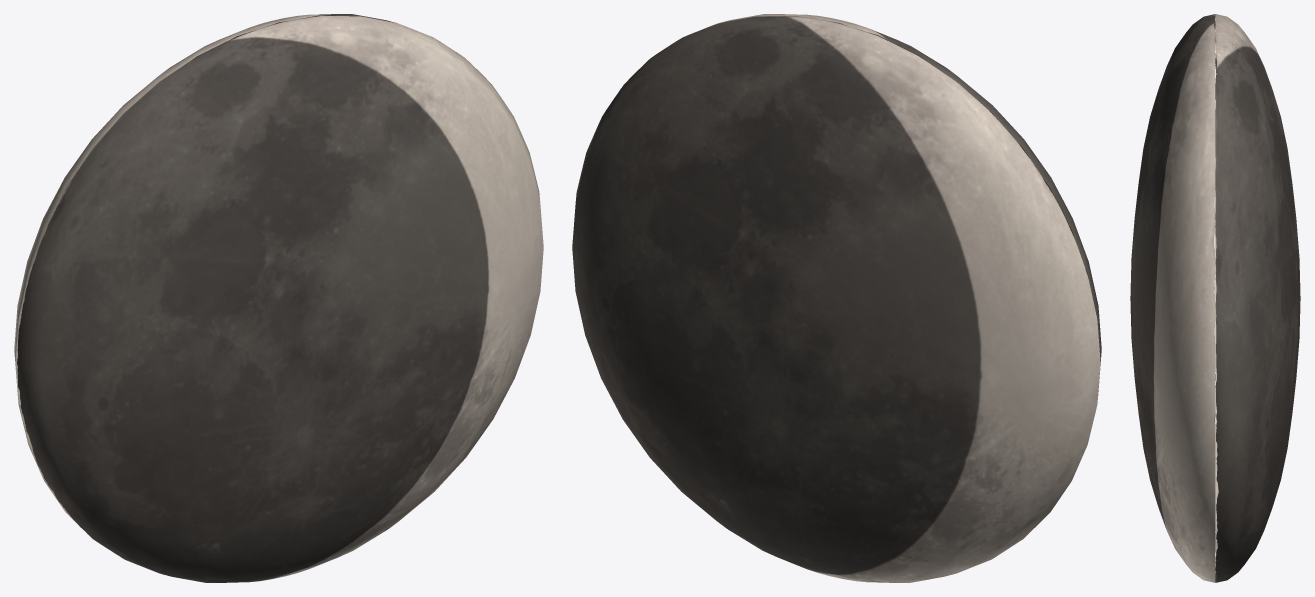
File: SM_MoonPhase8_WaningCrescent.fbx
3 views of the same model, side by side, from view 1: azimuth 30°, elevation 25°; view 2: azimuth 150°, elevation 25°; view 3: azimuth 270°, elevation 25° (orthographic). The views are drawn at different scales.
Parts seen in each view (by area): view 1: pSphere8; view 2: pSphere8; view 3: pSphere8.
Part boxes in pixels (x1,y1,x2,y2): pSphere8: [14, 14, 543, 582]; pSphere8: [572, 14, 1101, 582]; pSphere8: [1130, 14, 1300, 582].
Bounding box in the file's own units: 158 × 158 × 47.13.
